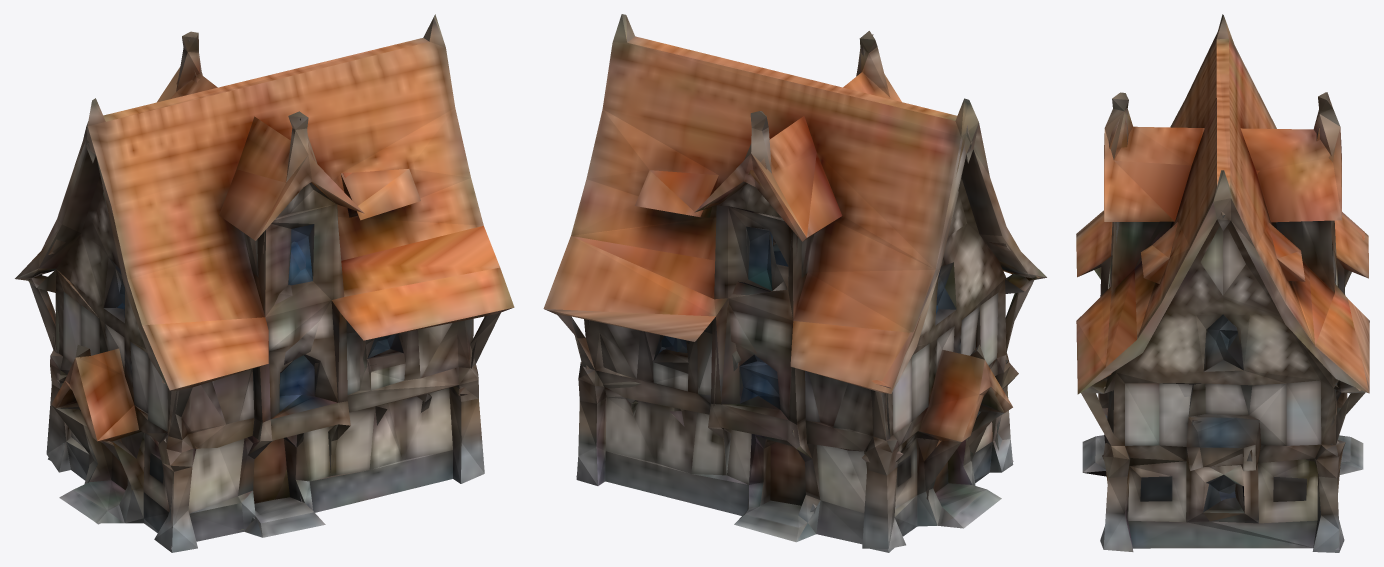
The model's file is cottage_orange_roof_lod1.glb.
The picture shows the model from 3 angles, left to right: view 1: azimuth 30°, elevation 25°; view 2: azimuth 150°, elevation 25°; view 3: azimuth 270°, elevation 25°; orthographic projection. The views are drawn at different scales.
Parts seen in each view (by area): view 1: cottage_orange_roof_lod1; view 2: cottage_orange_roof_lod1; view 3: cottage_orange_roof_lod1.
Boxes of the visible parts, x1,y1,x2,y2 form: cottage_orange_roof_lod1: (15,14,514,552); cottage_orange_roof_lod1: (543,14,1046,552); cottage_orange_roof_lod1: (1076,14,1369,552).
Bounding box in the file's own units: 7.52 × 8.01 × 5.46.
Materials: 1 (1 with a texture image).
